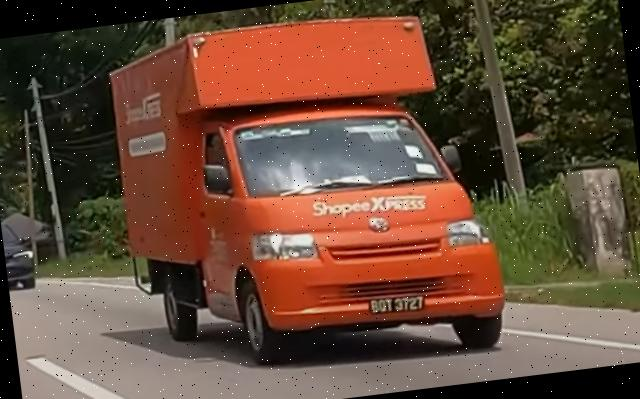License_Plate: (367, 292, 426, 317)
car: (97, 1, 519, 394)
